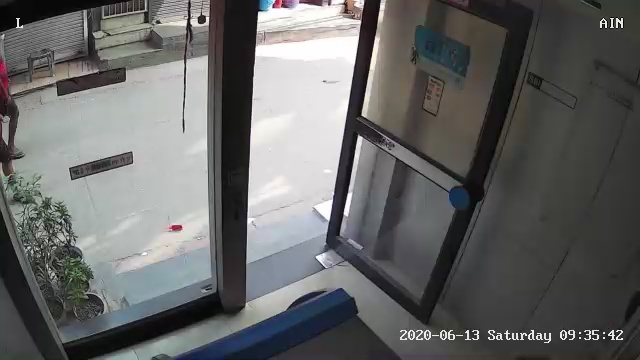open: (196, 4, 540, 321)
